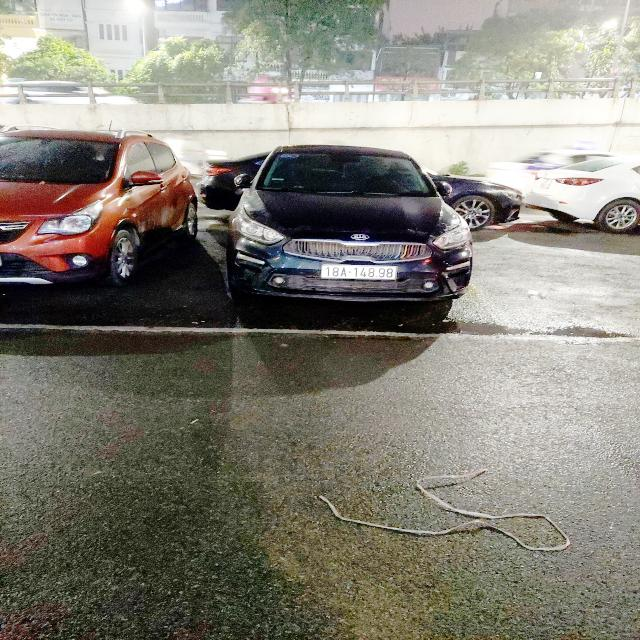license_plate: (321, 264, 402, 284)
